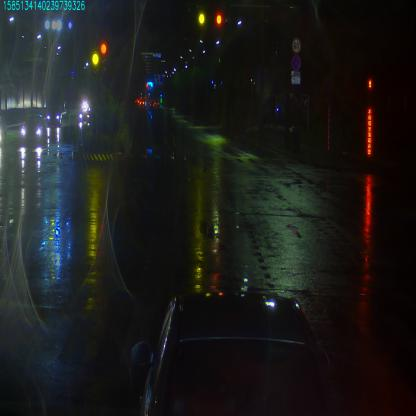traffic-light: (198, 10, 204, 24), (216, 12, 222, 25)
